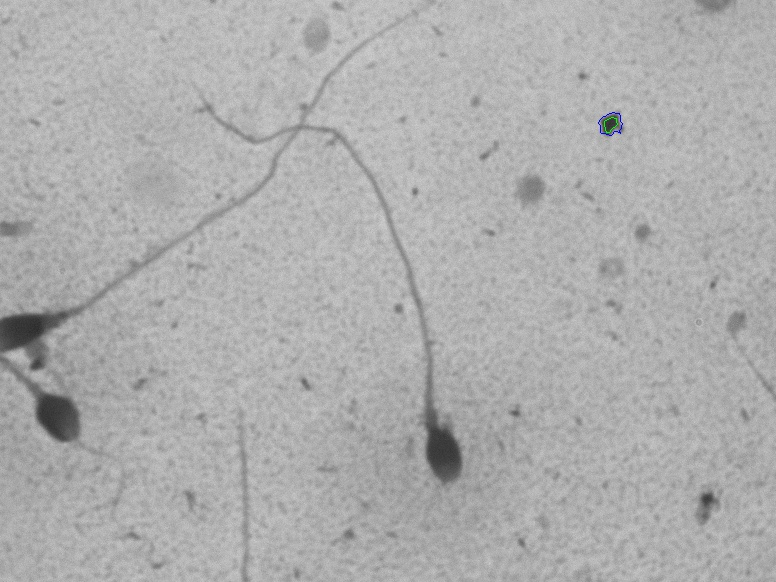Normal: (310, 140, 492, 498)
